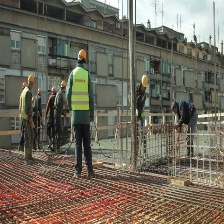helmet: (79, 48, 89, 61), (28, 75, 35, 84)
person: (68, 47, 97, 175), (20, 71, 38, 164)
vest: (73, 69, 89, 111)
